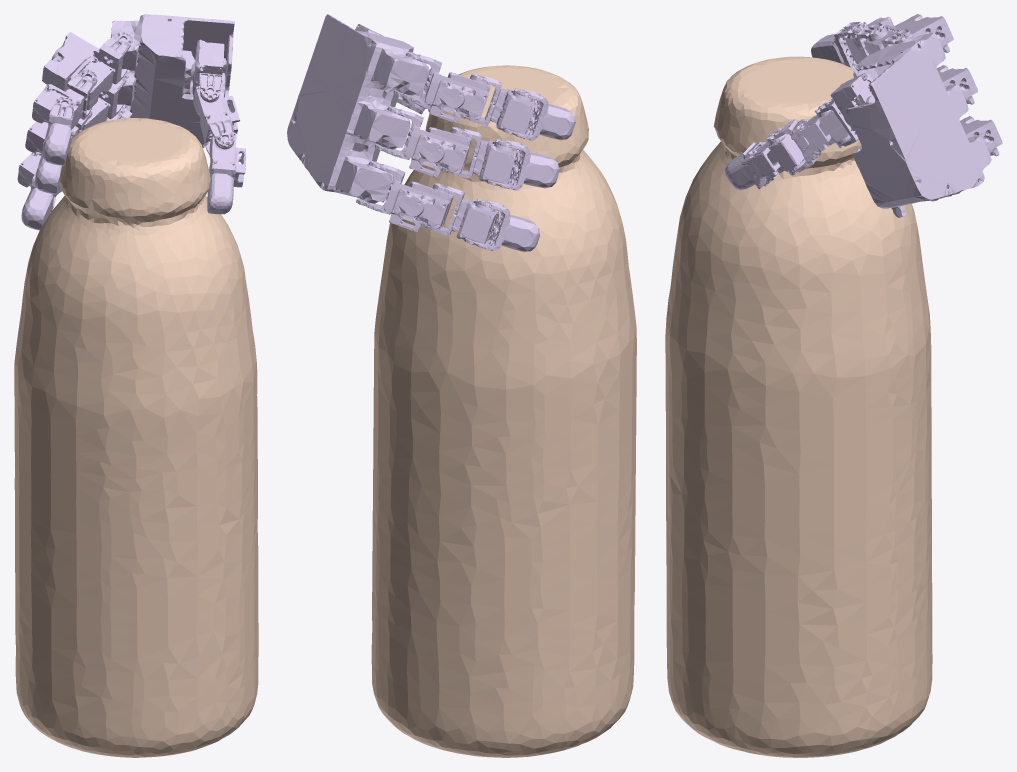
File: fc419e31ccbaba-closed.glb
3 views of the same model, side by side, from view 1: azimuth 30°, elevation 25°; view 2: azimuth 150°, elevation 25°; view 3: azimuth 270°, elevation 25° (orthographic). The views are drawn at different scales.
Parts seen in each view (by area): view 1: world, LEAP_hand; view 2: world, LEAP_hand; view 3: world, LEAP_hand.
Part boxes in pixels (x1,y1,x2,y2): world: [14, 118, 258, 757]; LEAP_hand: [17, 14, 245, 230]; world: [371, 65, 636, 757]; LEAP_hand: [287, 14, 575, 252]; world: [665, 56, 932, 757]; LEAP_hand: [725, 14, 1002, 217].
Size of the model in its own units: 0.2444 by 0.603 by 0.2599.
